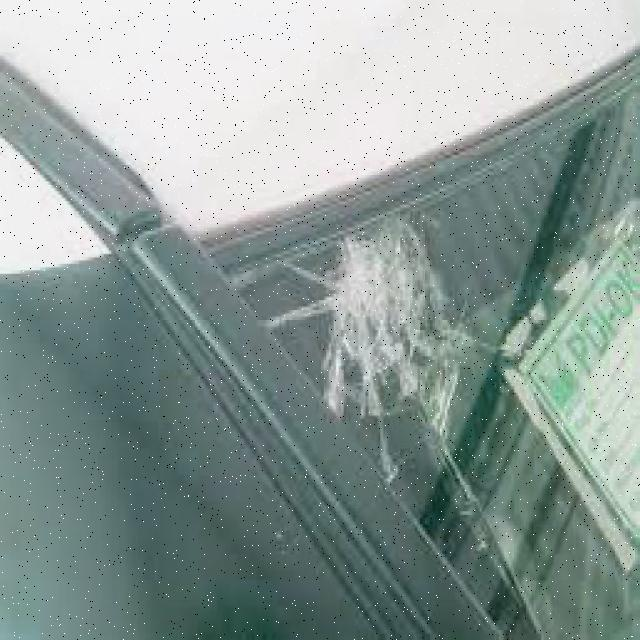car damage: (301, 218, 455, 419)
